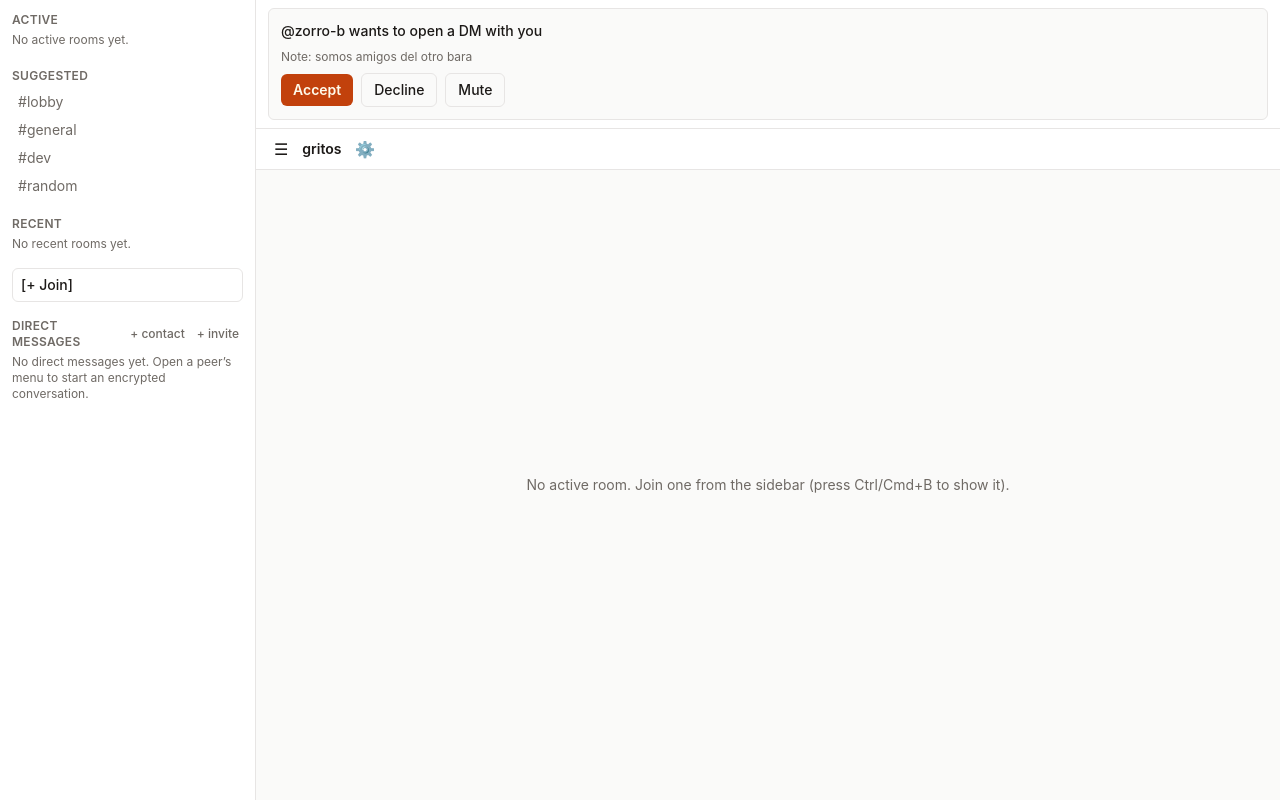
Test: inbound knock consent card › accept: ack(true) directed, the (global) channel opens and the DM view focuses
Click the button "Accept" at coordinates (317, 90), box [281,74,353,106]
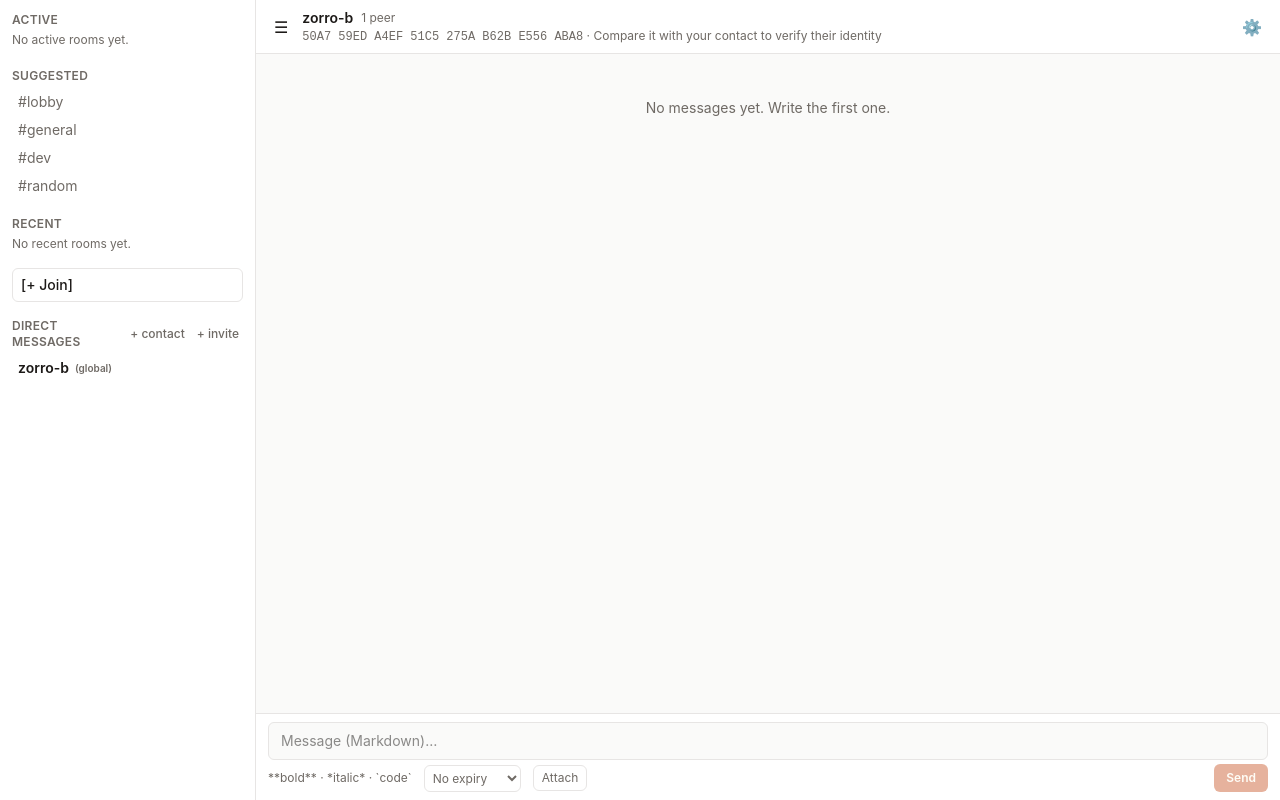
Now the heading "zorro-b" is shown, box [302,8,353,28]
